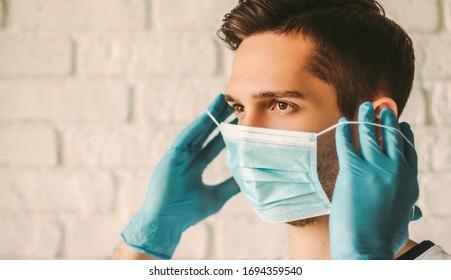gloves: (119, 92, 242, 259), (327, 101, 422, 260)
